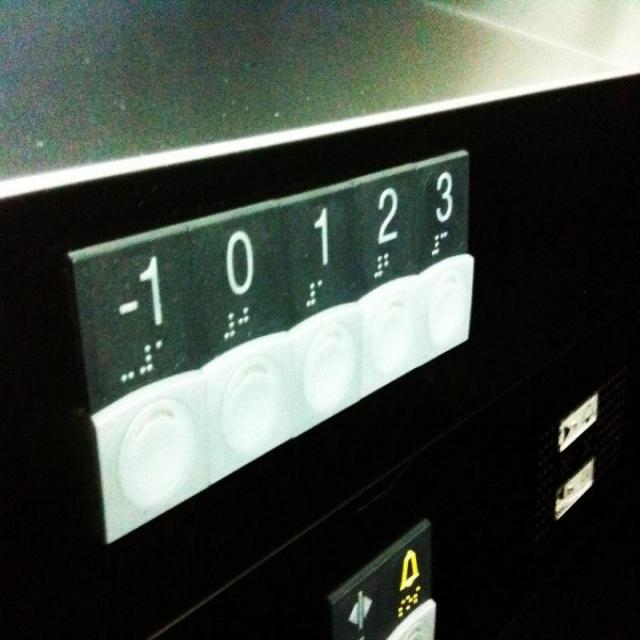-1: (66, 220, 192, 410)
0: (184, 195, 286, 372)
1: (280, 170, 357, 336)
2: (355, 163, 413, 298)
3: (414, 148, 468, 276)
alarm: (382, 514, 434, 637)
open: (325, 551, 387, 639)
